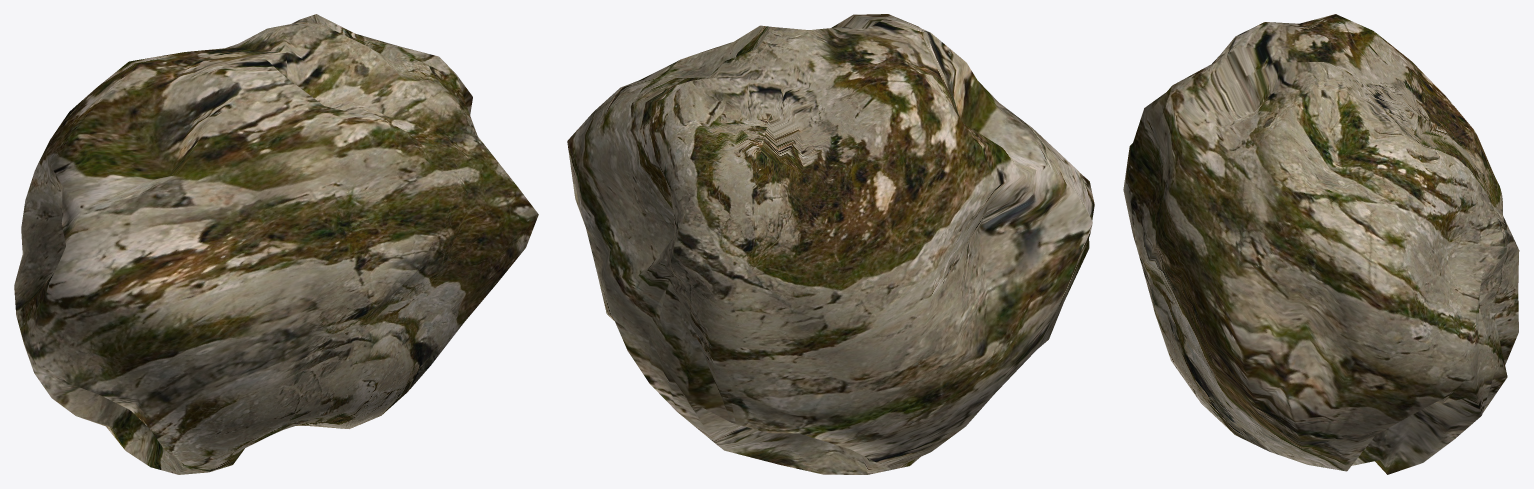
The model's file is colObj01.FBX.
3 renders of one model, left to right at view 1: azimuth 30°, elevation 25°; view 2: azimuth 150°, elevation 25°; view 3: azimuth 270°, elevation 25°, orthographic. The views are drawn at different scales.
Parts seen in each view (by area): view 1: colObj01; view 2: colObj01; view 3: colObj01.
Boxes of the visible parts, x1,y1,x2,y2 form: colObj01: (14,14,538,474); colObj01: (567,14,1094,474); colObj01: (1123,14,1519,474).
Bounding box in the file's own units: 54.89 × 41.1 × 46.53.
1 material, 1 textured.
